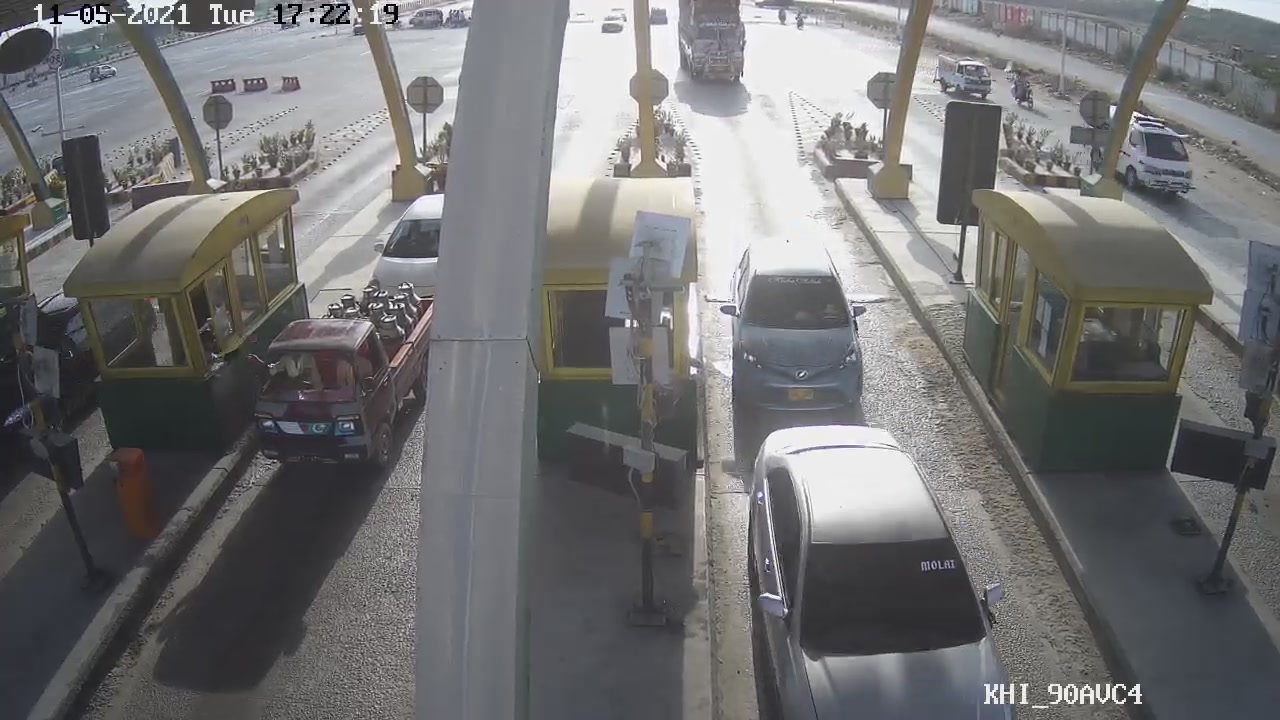F1: (719, 237, 875, 417)
